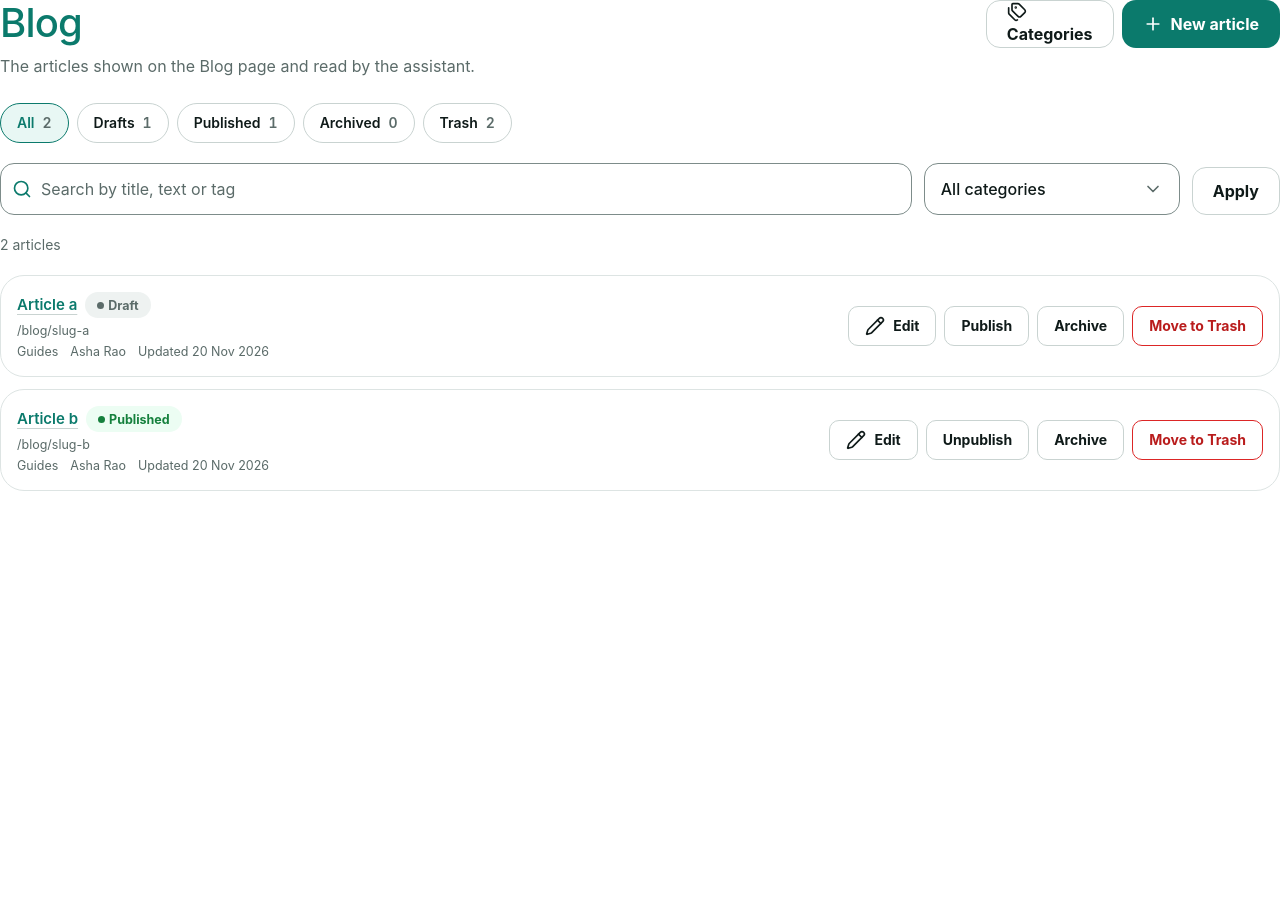
it: BlogAdminBoard (ADR-143): the admin's list › opens the categories drawer from its button
Click the button "Categories" at (1050, 24), box [986,0,1114,48]
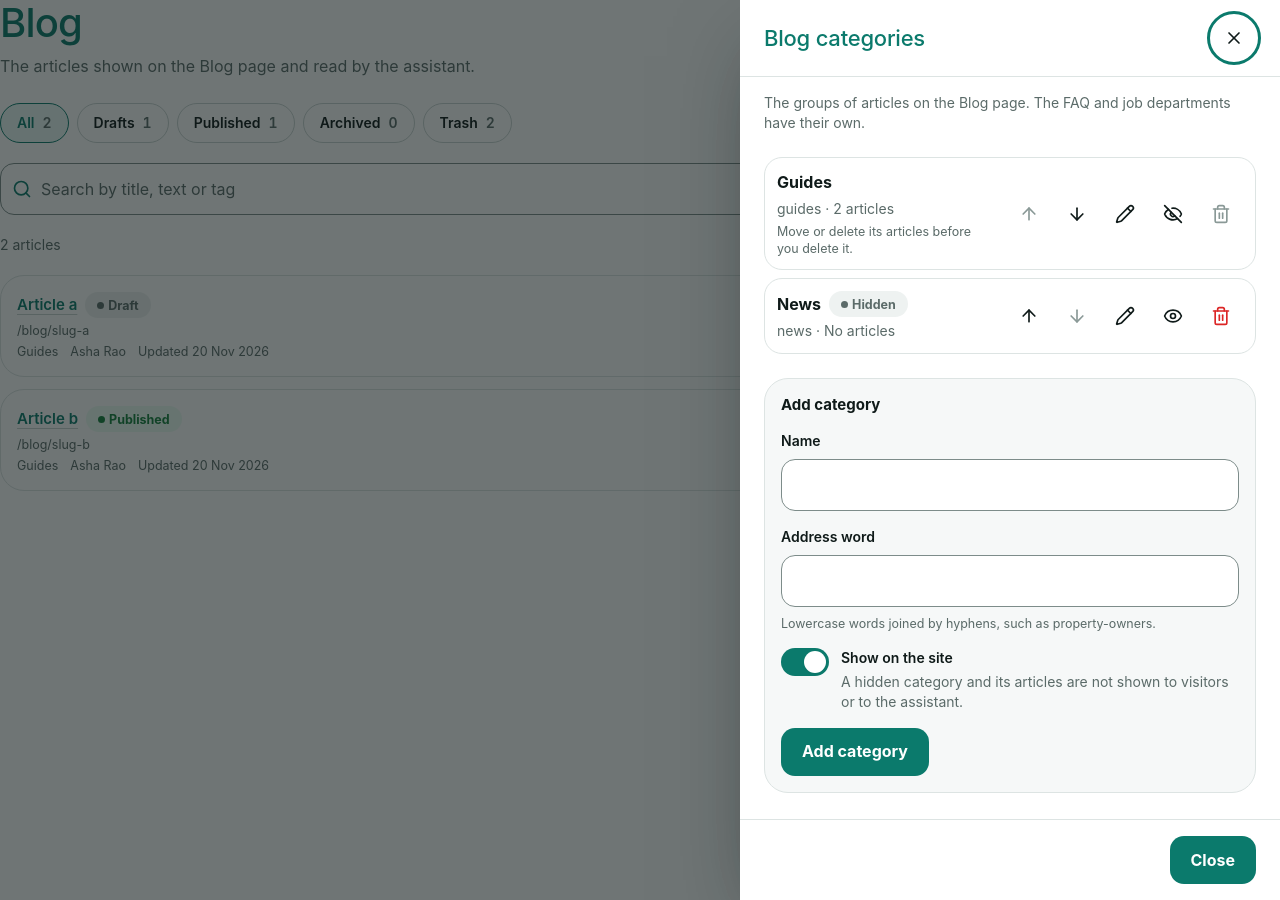
Expected: the dialog "Blog categories" is shown, [740,0,1279,899]
